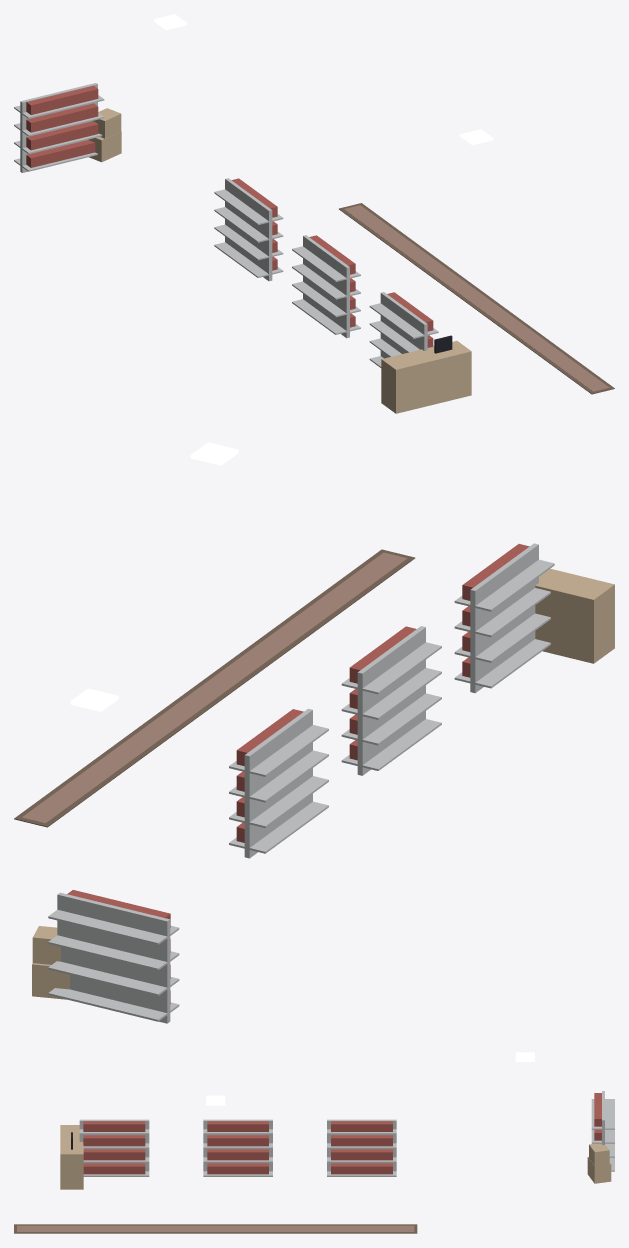
Rendered from fine-s0.glb.
The picture shows the model from 3 angles, top to bottom: view 1: azimuth 30°, elevation 25°; view 2: azimuth 150°, elevation 25°; view 3: azimuth 270°, elevation 25°; orthographic projection. The views are drawn at different scales.
Parts seen in each view (by area): view 1: soft-s0, shelving.000, shop-counter.000, shelf.000, shelf.001, shelf.002, cardboard-box.000; view 2: shelving.000, soft-s0, shelf.001, shelf.000, shelf.002, shop-counter.000, cardboard-box.000; view 3: shelf.000, shelf.001, soft-s0, shelf.002, shop-counter.000, shelving.000, cardboard-box.000.
Boxes of the visible parts, x1,y1,x2,y2 form: soft-s0: [339, 203, 614, 394]; shelving.000: [14, 83, 104, 172]; shop-counter.000: [381, 335, 471, 413]; shelf.000: [214, 178, 283, 281]; shelf.001: [292, 235, 360, 338]; shelf.002: [369, 292, 438, 367]; cardboard-box.000: [88, 108, 121, 162]; shelving.000: [48, 890, 179, 1023]; soft-s0: [14, 549, 415, 827]; shelf.001: [341, 626, 441, 775]; shelf.000: [229, 708, 328, 858]; shelf.002: [454, 543, 554, 693]; shop-counter.000: [535, 568, 614, 663]; cardboard-box.000: [32, 926, 69, 999]; shelf.000: [327, 1119, 396, 1176]; shelf.001: [203, 1119, 272, 1176]; soft-s0: [14, 1224, 417, 1233]; shelf.002: [79, 1119, 149, 1176]; shop-counter.000: [60, 1125, 83, 1189]; shelving.000: [591, 1091, 614, 1171]; cardboard-box.000: [587, 1143, 611, 1183].
Size of the model in its own units: 5.31 by 3.7 by 15.54.
